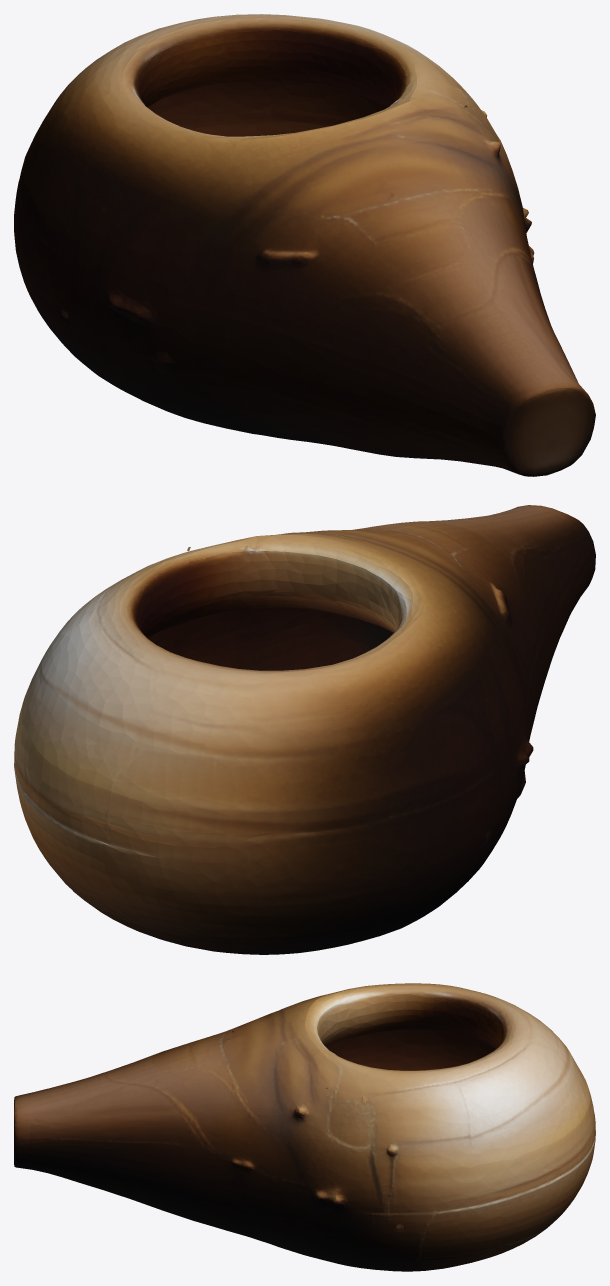
File: handmade-clay-ocarina-organic hi-res.jpeg.glb
3 renders of one model, top to bottom at view 1: azimuth 30°, elevation 25°; view 2: azimuth 150°, elevation 25°; view 3: azimuth 270°, elevation 25°, orthographic. The views are drawn at different scales.
Visible parts, largest first — view 1: world; view 2: world; view 3: world.
Boxes of the visible parts, x1=… form: world: x1=14, y1=14, x2=595, y2=476; world: x1=14, y1=505, x2=595, y2=954; world: x1=14, y1=983, x2=595, y2=1271.
Bounding box in the file's own units: 0.6044 × 0.4174 × 1.
Materials: 1 (1 with a texture image).
